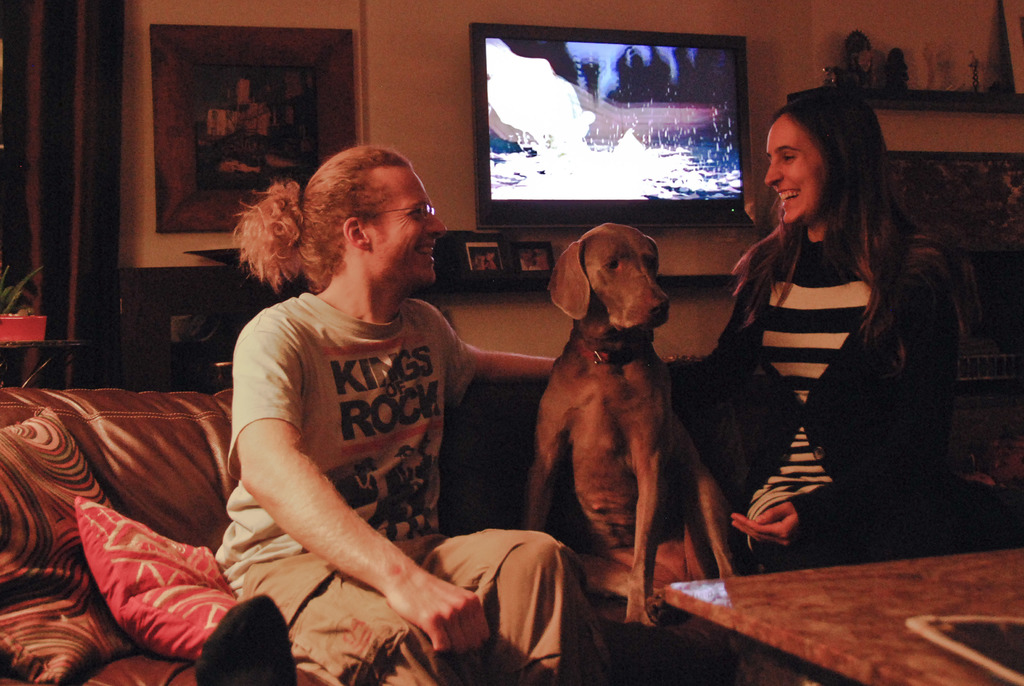Couch: (0, 384, 1009, 685)
